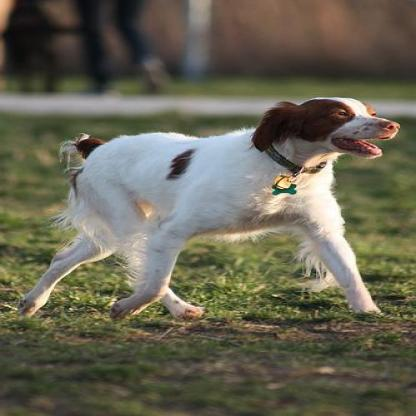Brittany_spaniel: (18, 92, 394, 332)
